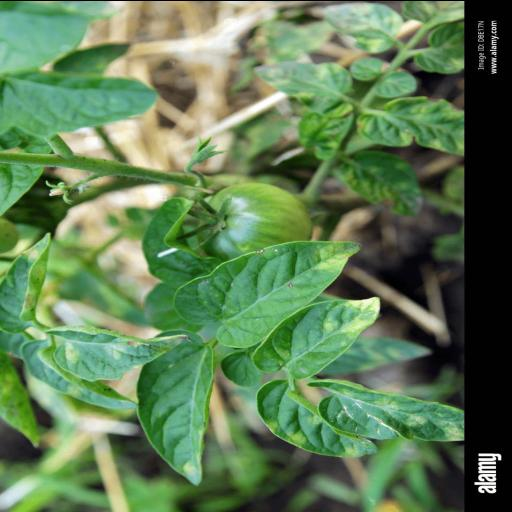disease_tomato: (170, 236, 363, 348), (135, 327, 215, 486), (248, 294, 382, 380), (304, 376, 464, 442), (254, 377, 380, 457), (17, 338, 141, 410), (44, 323, 190, 380), (354, 94, 464, 156), (248, 58, 354, 120), (334, 148, 422, 217), (0, 230, 54, 332), (304, 0, 404, 54)
